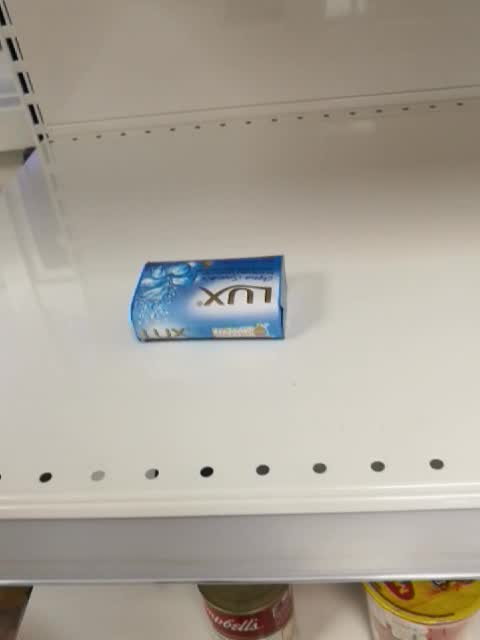soap: (129, 254, 288, 343)
